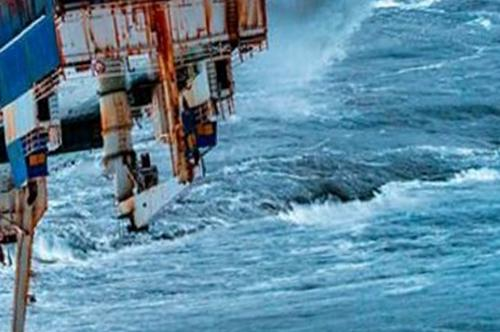rust: (52, 5, 139, 54), (142, 2, 183, 89), (165, 93, 194, 179), (223, 1, 274, 47)
